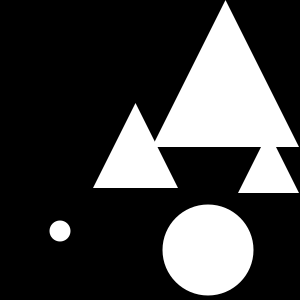rectangle: (163, 204, 254, 296), (50, 220, 70, 242)
triangle: (152, 0, 299, 147), (93, 103, 178, 188), (238, 132, 299, 193)
